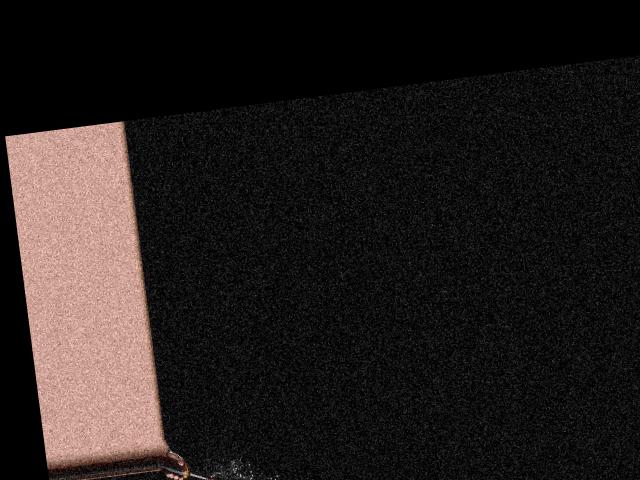beer: (158, 447, 211, 480)
